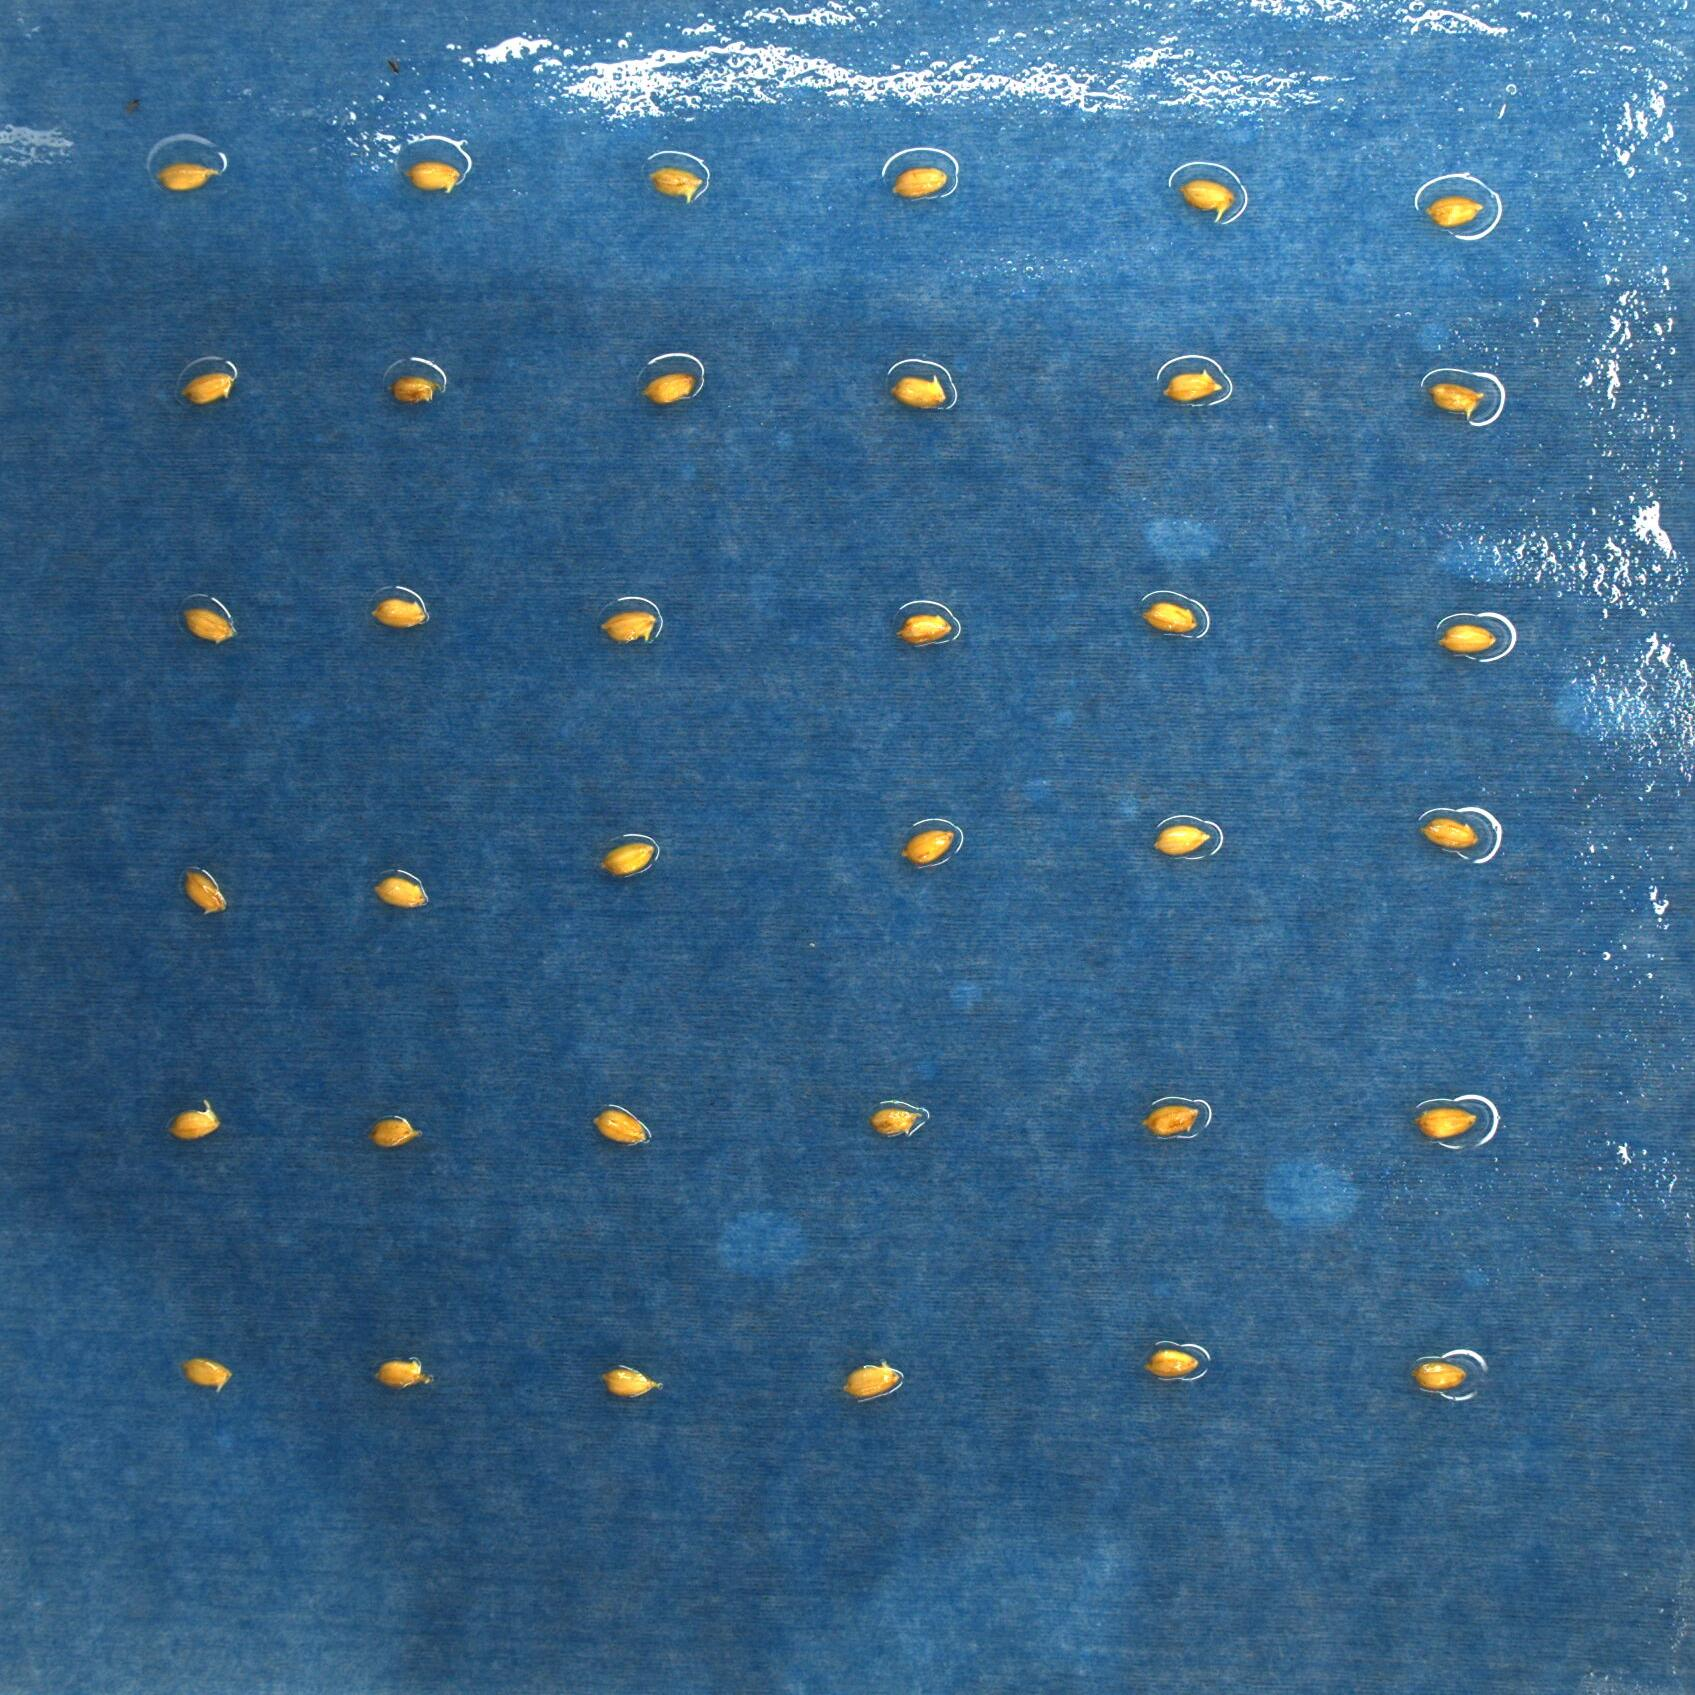not sprout: (1177, 175, 1237, 225), (590, 1104, 653, 1149), (1426, 376, 1484, 424), (885, 369, 950, 411), (1156, 366, 1226, 405), (1422, 192, 1487, 233), (900, 826, 961, 868), (157, 157, 222, 196), (179, 366, 236, 410), (182, 868, 230, 919), (598, 607, 657, 647), (1419, 813, 1482, 851), (647, 165, 705, 205), (896, 608, 955, 647), (365, 1110, 424, 1149), (640, 366, 694, 408), (1139, 599, 1205, 633), (1416, 1105, 1478, 1141), (185, 605, 237, 647), (602, 1364, 661, 1402), (371, 1357, 432, 1392), (405, 158, 463, 196), (599, 841, 657, 879), (168, 1102, 220, 1142), (844, 1361, 897, 1402), (1144, 1104, 1201, 1139), (891, 165, 945, 202), (374, 871, 428, 908), (869, 1105, 924, 1142), (182, 1357, 233, 1395), (371, 598, 428, 632), (1409, 1360, 1468, 1392), (386, 369, 439, 405), (1141, 1350, 1201, 1381), (1153, 823, 1211, 854), (1436, 627, 1501, 653)
